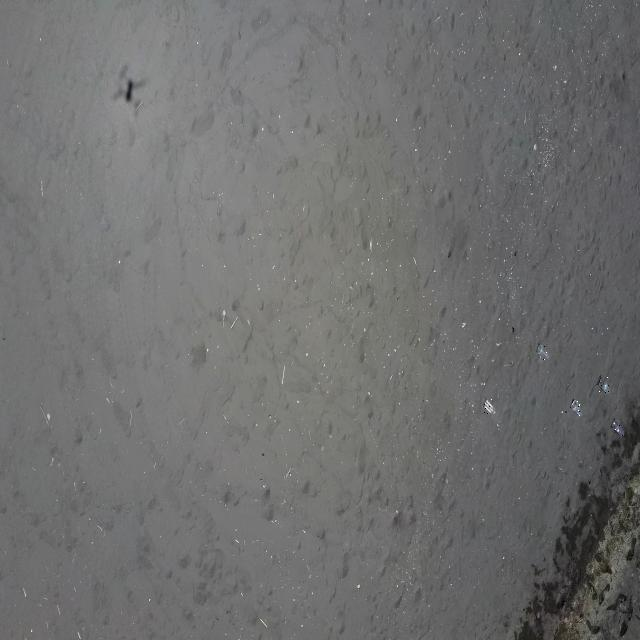takeaway-cup: (598, 377, 610, 394), (613, 420, 624, 437), (571, 400, 581, 417), (538, 344, 548, 360), (484, 399, 494, 414)
